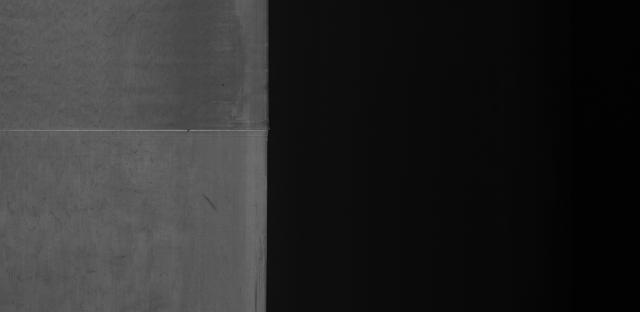welding_line: (0, 118, 286, 144)
